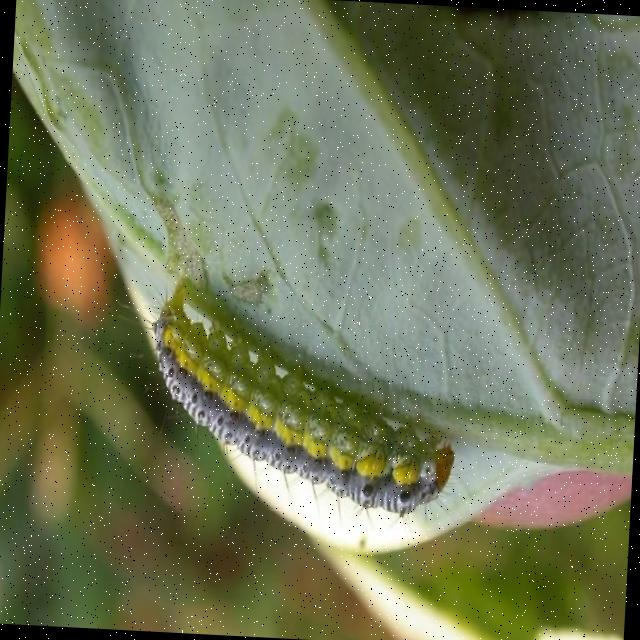worm: (144, 279, 470, 541)
